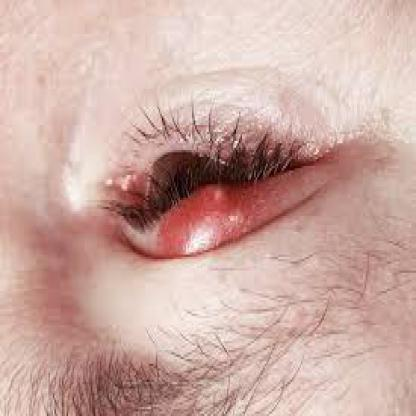Fire ant: (160, 187, 244, 259)
